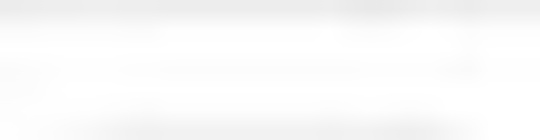ImgButton: (1, 1, 539, 139)
